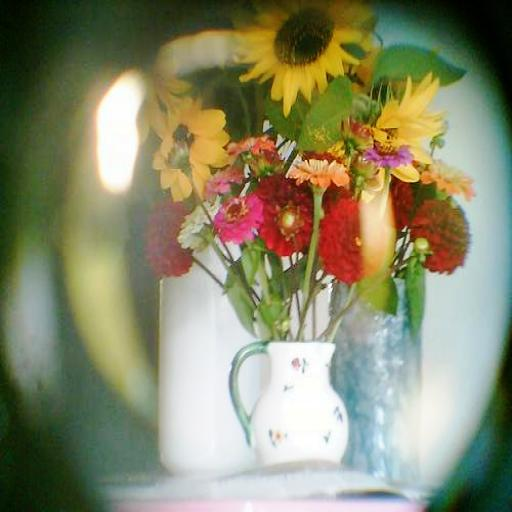sunflower: (237, 1, 379, 104), (146, 96, 228, 197), (370, 67, 443, 179)
